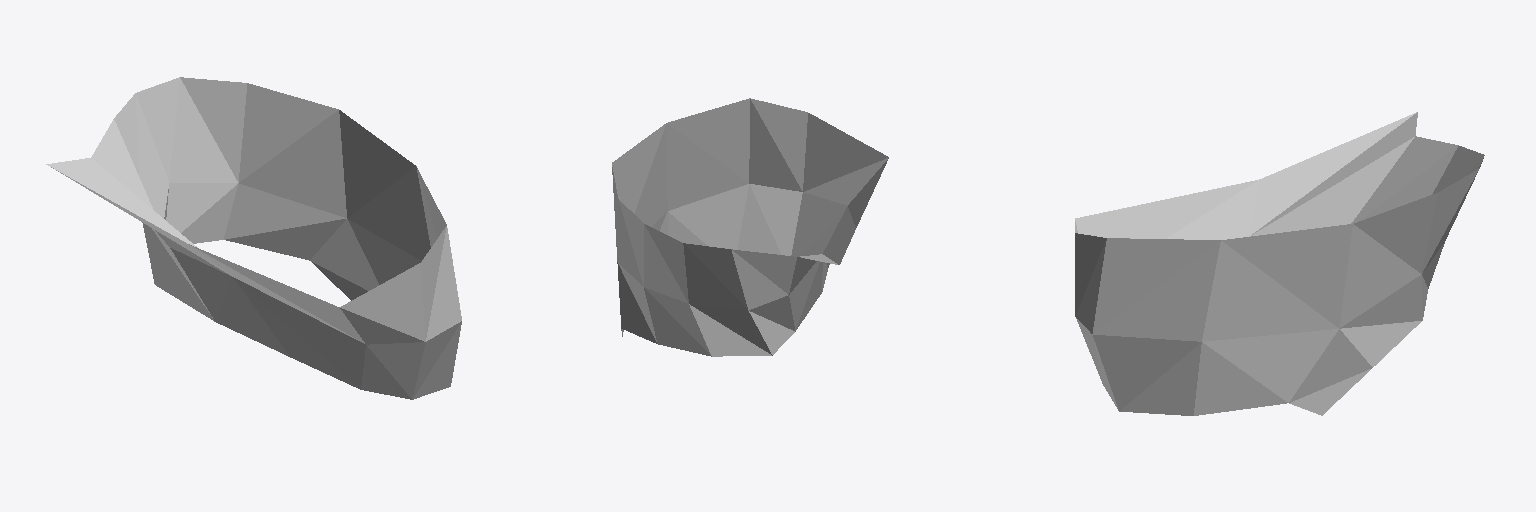
Rendered from femurdino.obj.
3 views of the same model, side by side, from view 1: azimuth 30°, elevation 25°; view 2: azimuth 150°, elevation 25°; view 3: azimuth 270°, elevation 25° (orthographic).
Parts seen in each view (by area): view 1: polySurface8 polySurface4 polySurface2 Mesh; view 2: polySurface8 polySurface4 polySurface2 Mesh; view 3: polySurface8 polySurface4 polySurface2 Mesh.
Boxes of the visible parts, x1,y1,x2,y2 form: polySurface8 polySurface4 polySurface2 Mesh: [46, 77, 461, 399]; polySurface8 polySurface4 polySurface2 Mesh: [612, 98, 888, 356]; polySurface8 polySurface4 polySurface2 Mesh: [1075, 112, 1484, 415].
Bounding box in the file's own units: 0.2242 × 0.1518 × 0.2827.